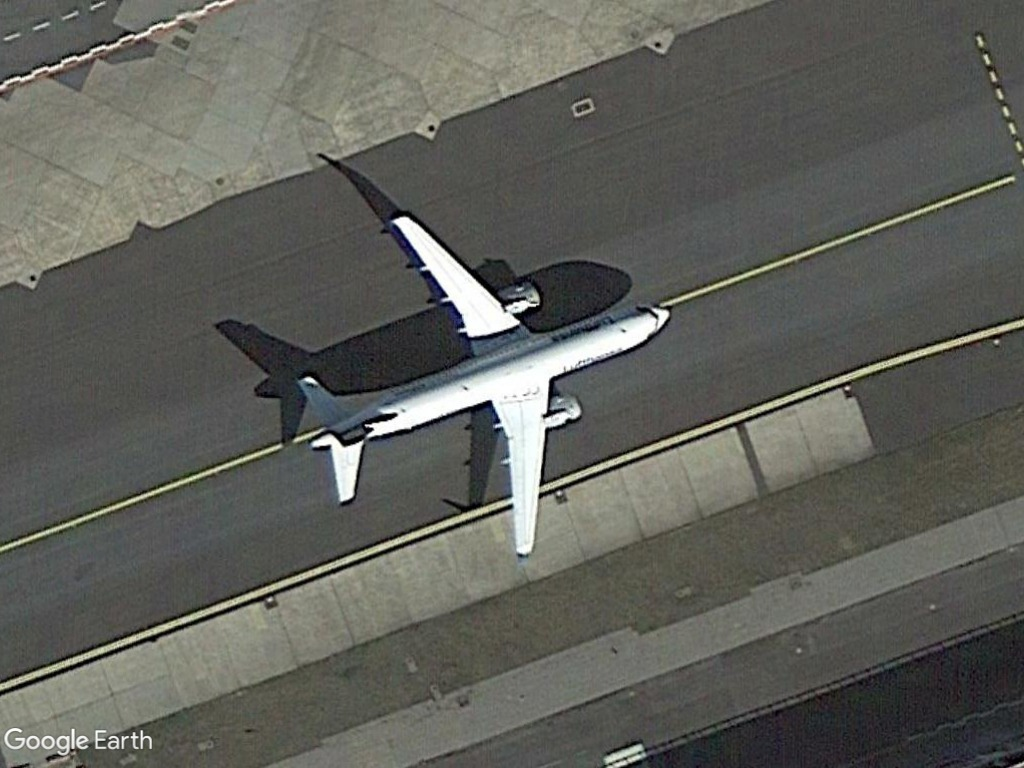airliner: (281, 176, 692, 571)
